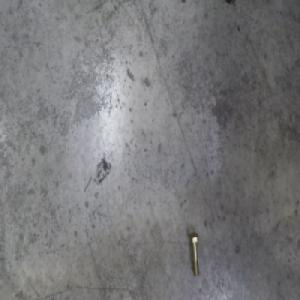Bolt: (188, 231, 200, 278)
